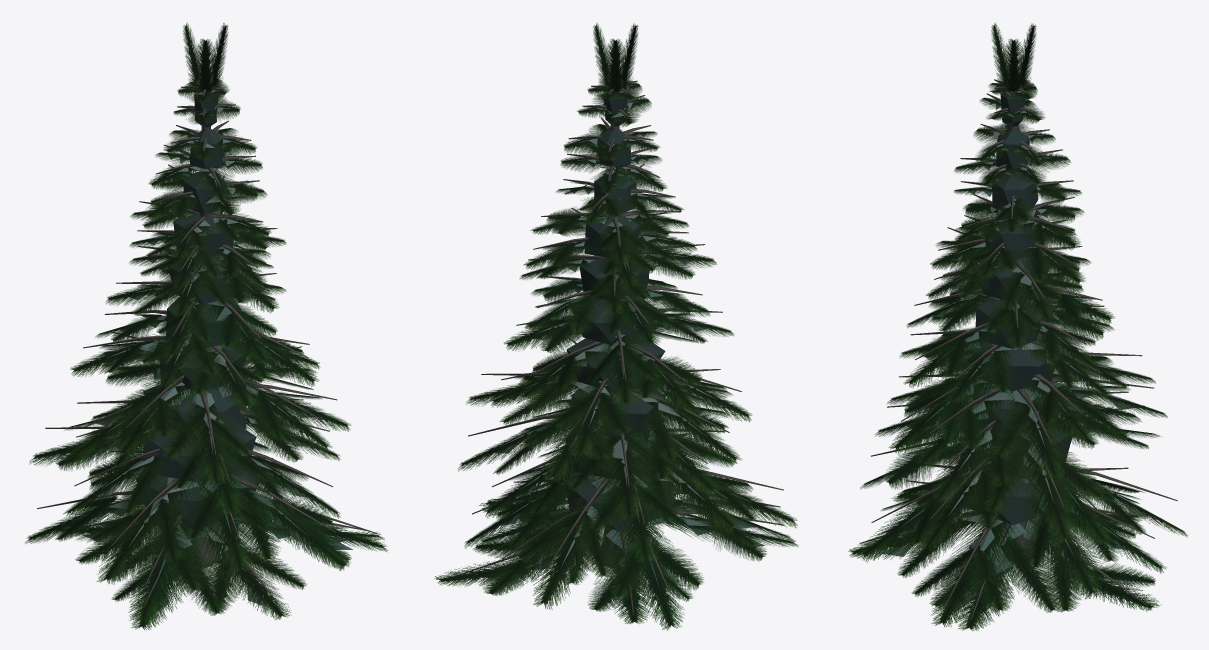
The model's file is Abeto_Azul.glb.
3 renders of one model, left to right at view 1: azimuth 30°, elevation 25°; view 2: azimuth 150°, elevation 25°; view 3: azimuth 270°, elevation 25°, orthographic.
Parts seen in each view (by area): view 1: Abeto_Azul; view 2: Abeto_Azul; view 3: Abeto_Azul.
Boxes of the visible parts, x1,y1,x2,y2 form: Abeto_Azul: [25, 23, 388, 629]; Abeto_Azul: [434, 23, 798, 630]; Abeto_Azul: [848, 23, 1188, 630].
Size of the model in its own units: 6.83 by 10.55 by 6.5.
8 materials, 3 textured.
